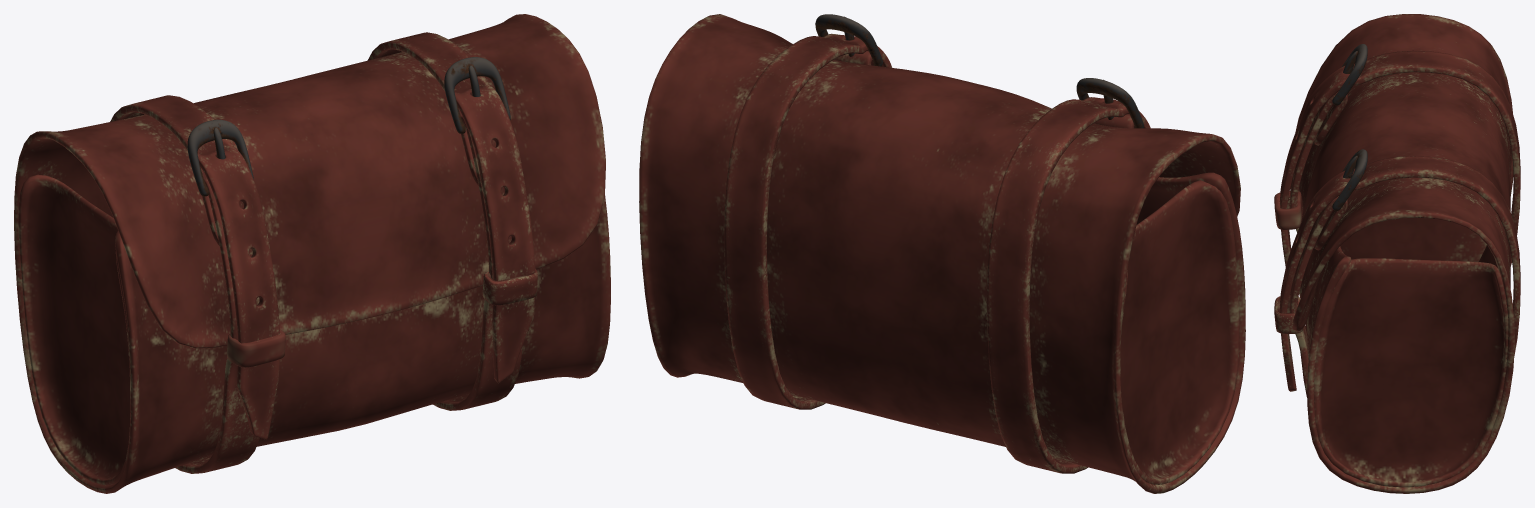
Rendered from Sketchfab_2021_02_19_16_29_57.fbx.
3 views of the same model, side by side, from view 1: azimuth 30°, elevation 25°; view 2: azimuth 150°, elevation 25°; view 3: azimuth 270°, elevation 25° (orthographic). The views are drawn at different scales.
Parts seen in each view (by area): view 1: pouch_body_Mesh; view 2: pouch_body_Mesh; view 3: pouch_body_Mesh.
Part boxes in pixels (x1,y1,x2,y2): pouch_body_Mesh: (14,14,610,493); pouch_body_Mesh: (639,14,1245,493); pouch_body_Mesh: (1274,14,1520,493).
Size of the model in its own units: 369 by 256 by 192.
